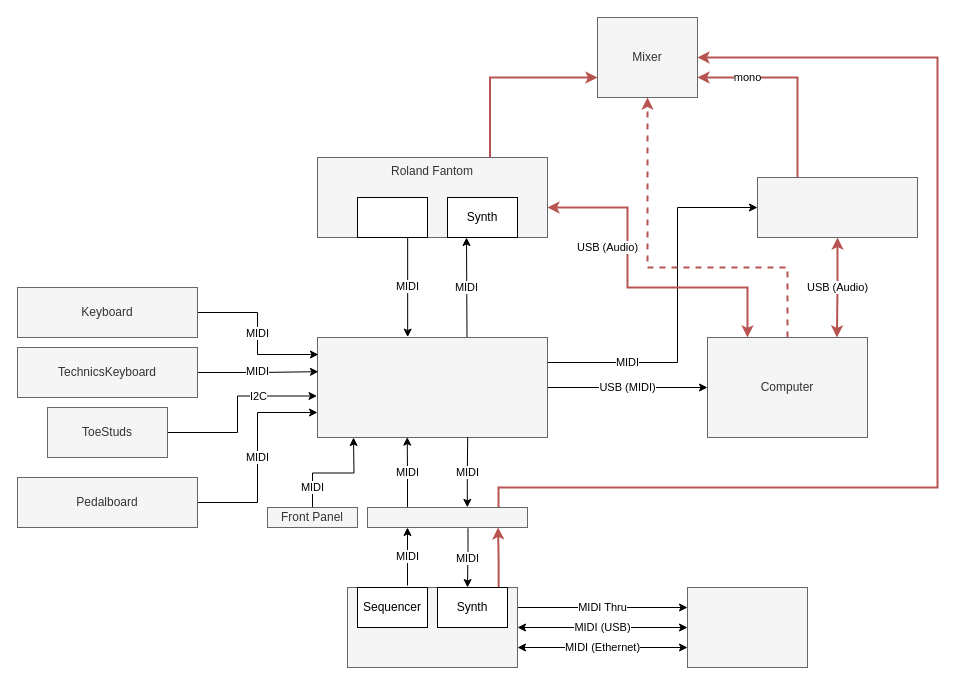
This 964x685 diagram has some shape labels left out. Each missing label, with the box of its shape:
Keyboard Sequencer: (356, 196, 428, 238)
MIDIController: (316, 336, 548, 438)
Roland SE-02: (756, 176, 918, 238)
Side Panel: (366, 506, 528, 528)
Zynthian: (346, 586, 518, 668)
